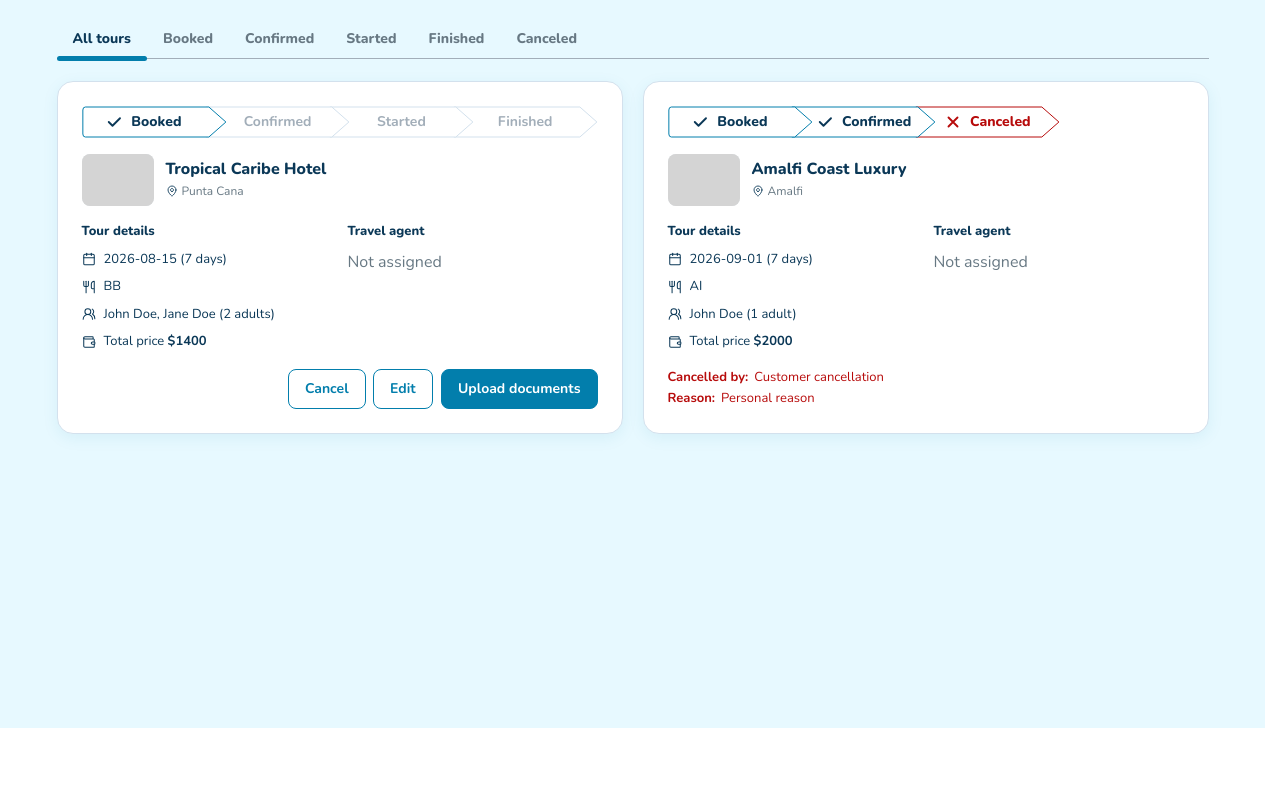
Test: MyToursPage Component › filters list when switching to "Canceled" tab
Step 1. Click the tab "Canceled" → (547, 38), box [500,16,593,61]
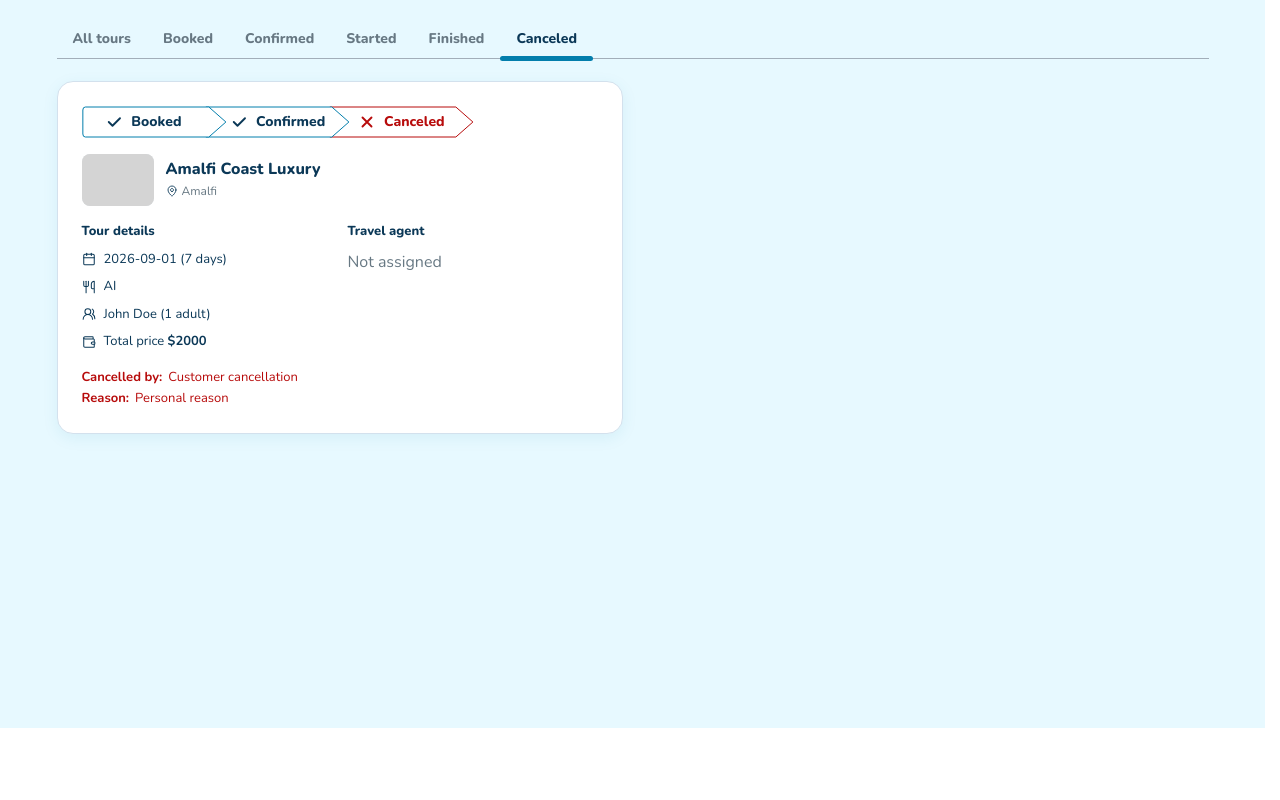
Check: the heading "Amalfi Coast Luxury" is shown, box [166,160,320,180]
Check: the heading "Tropical Caribe Hotel" is gone
